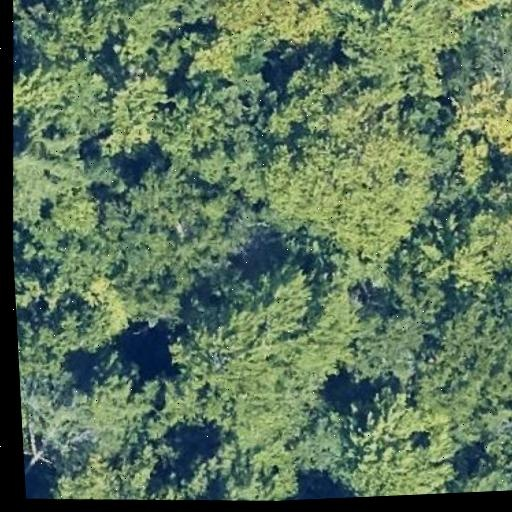tree-top: (153, 253, 364, 457), (245, 67, 454, 261), (105, 155, 258, 299), (36, 342, 165, 471), (323, 383, 461, 499), (150, 66, 274, 192), (8, 127, 122, 240), (417, 292, 512, 413), (9, 51, 123, 145), (353, 296, 449, 388), (13, 0, 125, 75), (93, 55, 171, 162), (349, 0, 454, 76), (203, 0, 342, 55), (450, 174, 512, 291), (39, 444, 157, 505), (194, 437, 294, 504), (34, 292, 121, 365), (433, 9, 512, 81), (444, 69, 512, 152), (111, 0, 188, 62), (459, 416, 512, 493)
